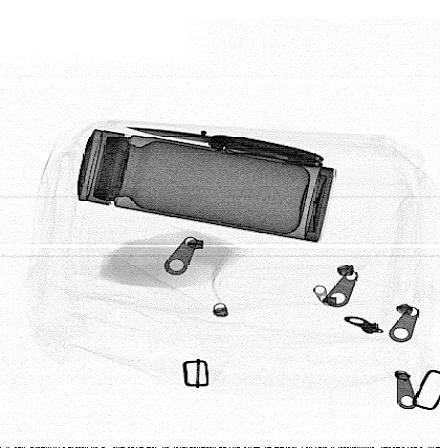Knife: (121, 127, 328, 172)
